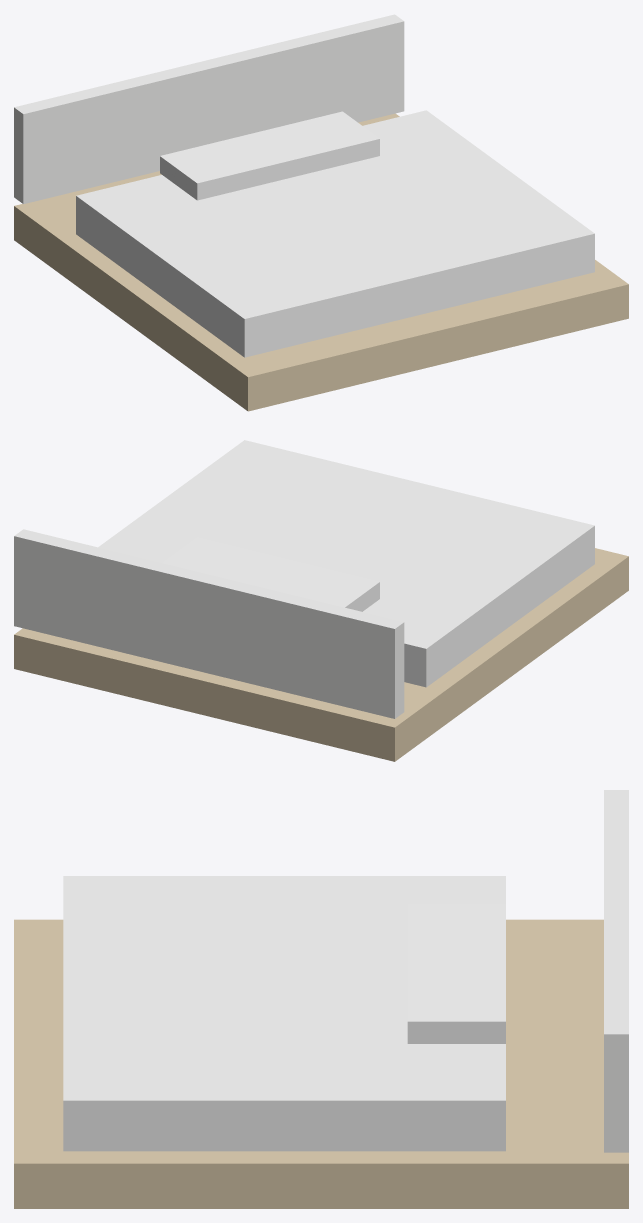
File: cama-king.glb
3 renders of one model, top to bottom at view 1: azimuth 30°, elevation 25°; view 2: azimuth 150°, elevation 25°; view 3: azimuth 270°, elevation 25°, orthographic. The views are drawn at different scales.
Bounding box in the file's own units: 1.86 × 0.62 × 1.98.
